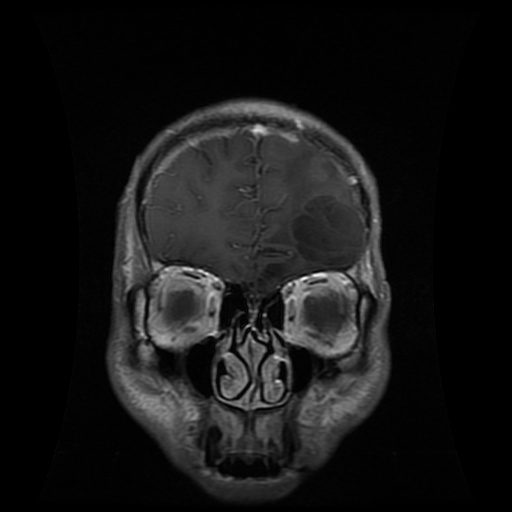glioma: (289, 192, 366, 267)
